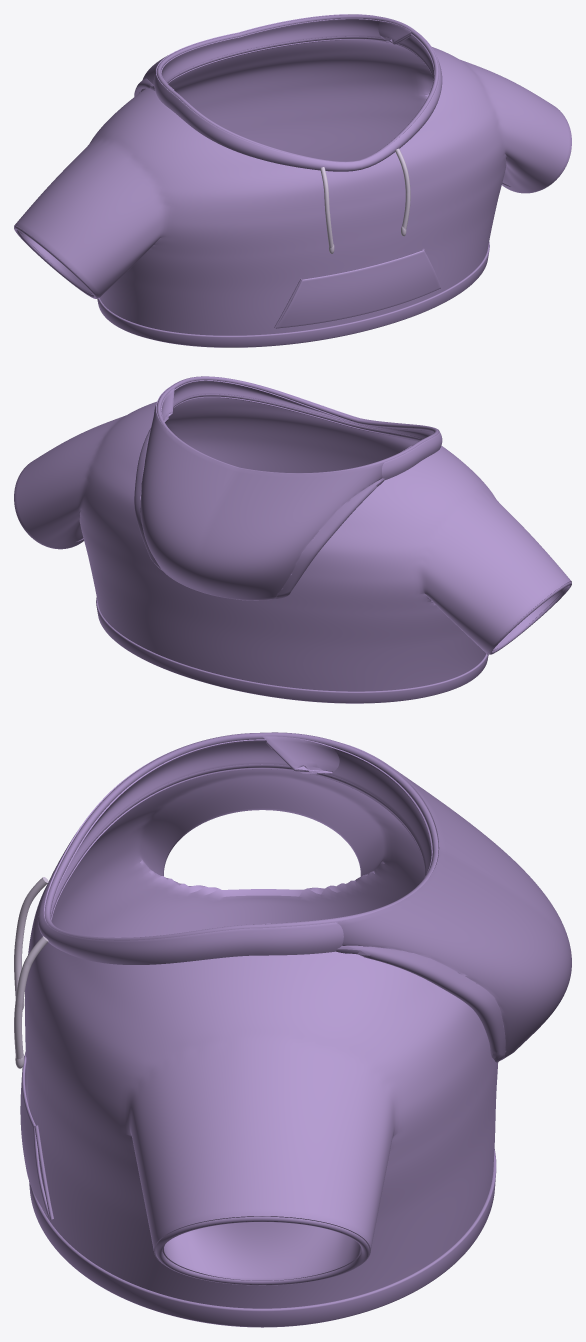
File: Masculine-sweatshirt-top.glb
3 renders of one model, top to bottom at view 1: azimuth 30°, elevation 25°; view 2: azimuth 150°, elevation 25°; view 3: azimuth 270°, elevation 25°, orthographic. The views are drawn at different scales.
Parts seen in each view (by area): view 1: Clothing / sweatshirt, Hoodie / attached opening, Hoodie / kangaroo pocket, Hoodie / ribbed hem, Hoodie / rolled opening export, Hoodie / resting hood, Neckline / fitted crew export, Sleeve / soft cuff -1 export, Hoodie / drawcord 1 export, Hoodie / drawcord -1 export; view 2: Clothing / sweatshirt, Hoodie / resting hood, Hoodie / ribbed hem, Hoodie / attached opening, Hoodie / rolled opening export, Neckline / fitted crew export, Sleeve / soft cuff -1 export; view 3: Clothing / sweatshirt, Hoodie / resting hood, Hoodie / attached opening, Hoodie / ribbed hem, Hoodie / rolled opening export, Sleeve / soft cuff 1 export, Hoodie / kangaroo pocket, Neckline / fitted crew export, Hoodie / drawcord 1 export, Hoodie / drawcord -1 export.
Boxes of the visible parts, x1,y1,x2,y2 form: Clothing / sweatshirt: [14, 39, 571, 335]; Hoodie / attached opening: [153, 18, 442, 171]; Hoodie / kangaroo pocket: [276, 250, 440, 328]; Hoodie / ribbed hem: [97, 242, 489, 347]; Hoodie / rolled opening export: [156, 14, 438, 162]; Hoodie / resting hood: [134, 14, 411, 96]; Neckline / fitted crew export: [166, 36, 431, 83]; Sleeve / soft cuff -1 export: [14, 226, 97, 298]; Hoodie / drawcord 1 export: [395, 148, 410, 229]; Hoodie / drawcord -1 export: [320, 167, 333, 247]; Clothing / sweatshirt: [14, 396, 571, 691]; Hoodie / resting hood: [134, 388, 411, 600]; Hoodie / ribbed hem: [96, 597, 488, 703]; Hoodie / attached opening: [154, 380, 442, 480]; Hoodie / rolled opening export: [156, 376, 438, 473]; Neckline / fitted crew export: [173, 394, 422, 440]; Sleeve / soft cuff -1 export: [488, 582, 571, 654]; Clothing / sweatshirt: [25, 768, 498, 1308]; Hoodie / resting hood: [262, 736, 571, 1062]; Hoodie / attached opening: [38, 739, 432, 964]; Hoodie / ribbed hem: [29, 1149, 496, 1326]; Hoodie / rolled opening export: [44, 732, 438, 940]; Sleeve / soft cuff 1 export: [155, 1216, 369, 1285]; Hoodie / kangaroo pocket: [20, 1051, 49, 1218]; Neckline / fitted crew export: [50, 764, 425, 919]; Hoodie / drawcord 1 export: [14, 936, 48, 1059]; Hoodie / drawcord -1 export: [14, 877, 48, 997].
Bounding box in the file's own units: 0.9801 × 0.3939 × 0.5553.
